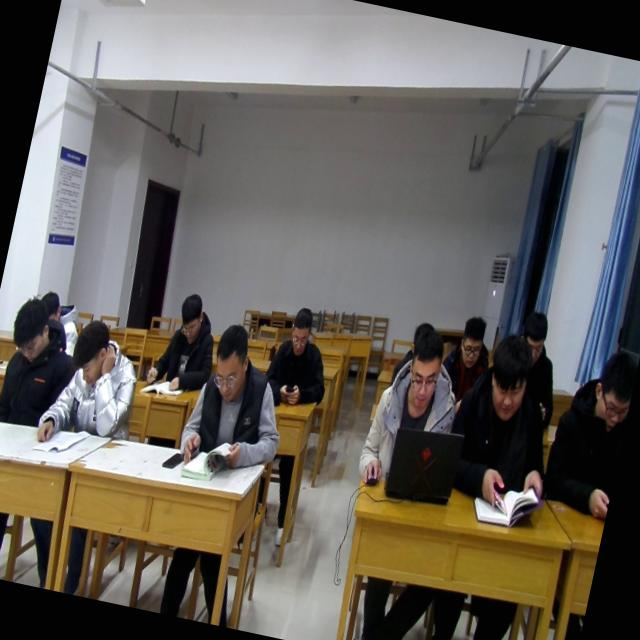down: (476, 326, 538, 428), (202, 316, 259, 409), (396, 322, 450, 418), (585, 344, 640, 434), (64, 313, 118, 388), (5, 294, 56, 368), (453, 309, 491, 370), (169, 288, 208, 347), (514, 303, 552, 360), (284, 302, 318, 357), (34, 283, 66, 323)
sit: (437, 328, 572, 518), (352, 311, 473, 504), (172, 316, 300, 482), (539, 334, 640, 514), (31, 312, 148, 462), (0, 284, 79, 434), (260, 297, 344, 416), (502, 303, 585, 407), (436, 296, 505, 412), (148, 282, 222, 390), (27, 279, 81, 348)
